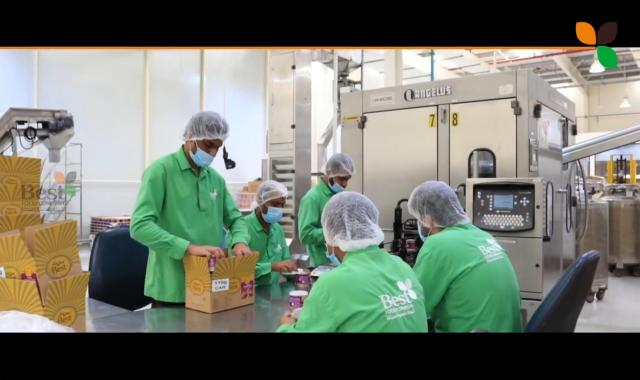hairnet: (322, 191, 383, 250), (406, 180, 469, 228), (182, 110, 228, 150), (258, 180, 288, 221), (324, 152, 354, 190)
